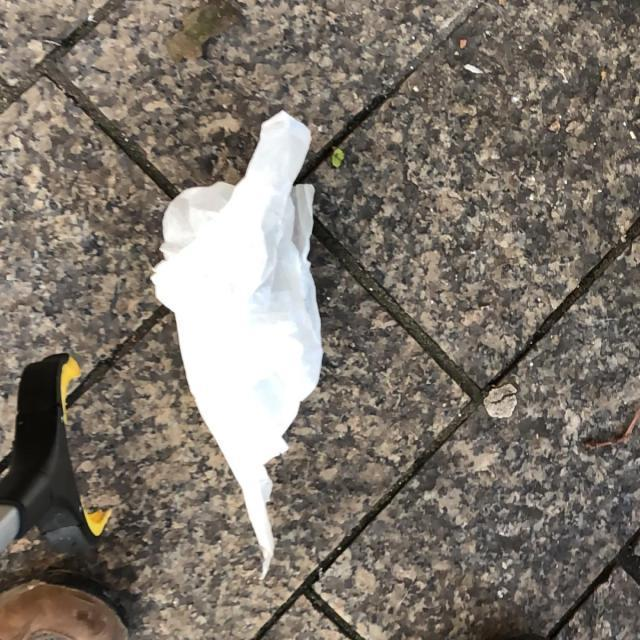Paper: (147, 105, 327, 582)
